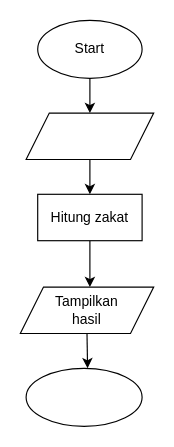
Some shapes in this 174 by 447 pixel diagram are drawn without their labels. The shapes that lost their labels are listed below. From the top down, each one's box as (x1, y1, x2, y2) in pixels, then its label:
(25, 112, 154, 160): Input penghasilan
(25, 367, 142, 426): End
